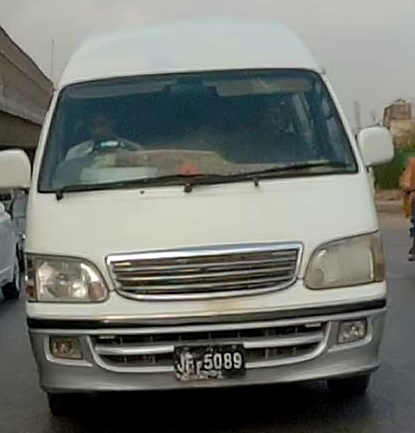van: (1, 18, 396, 418)
